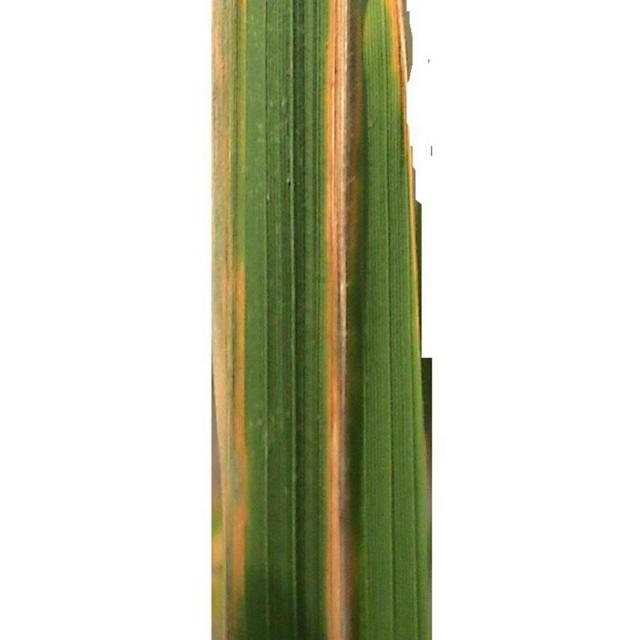leaf blight: (195, 1, 438, 640)
